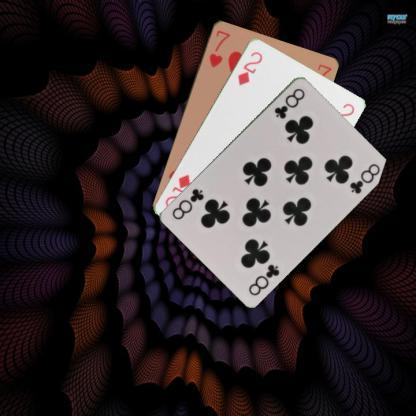2d: (234, 48, 264, 86)
7h: (206, 27, 232, 69)
8c: (272, 85, 308, 120), (246, 260, 281, 296)
